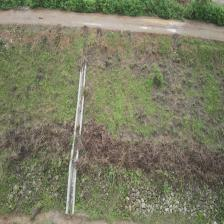rock toe: (125, 173, 218, 218)
slope drain: (64, 60, 89, 218)
